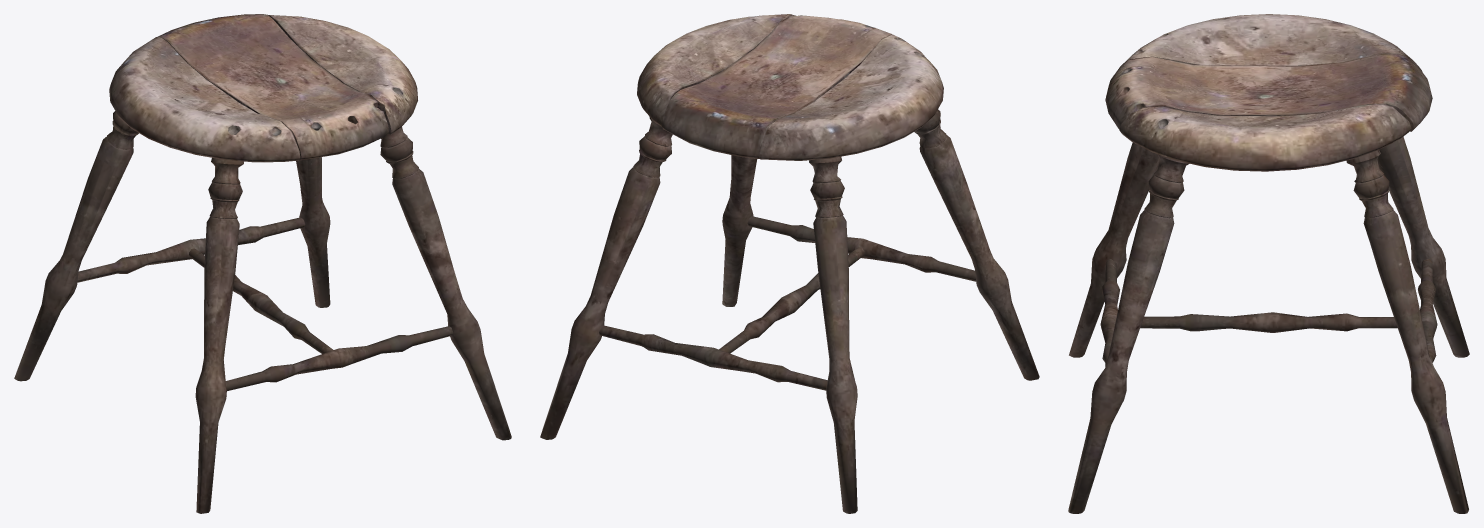
Rendered from wooden_stool_01.glb.
3 renders of one model, left to right at view 1: azimuth 30°, elevation 25°; view 2: azimuth 150°, elevation 25°; view 3: azimuth 270°, elevation 25°, orthographic. The views are drawn at different scales.
Visible parts, largest first — view 1: wooden_stool_01; view 2: wooden_stool_01; view 3: wooden_stool_01.
Boxes of the visible parts, <box> form: wooden_stool_01: <box>14,14,511,513</box>; wooden_stool_01: <box>540,14,1039,513</box>; wooden_stool_01: <box>1068,14,1469,513</box>.
Bounding box in the file's own units: 0.4242 × 0.4365 × 0.4417.
Materials: 1 (1 with a texture image).
